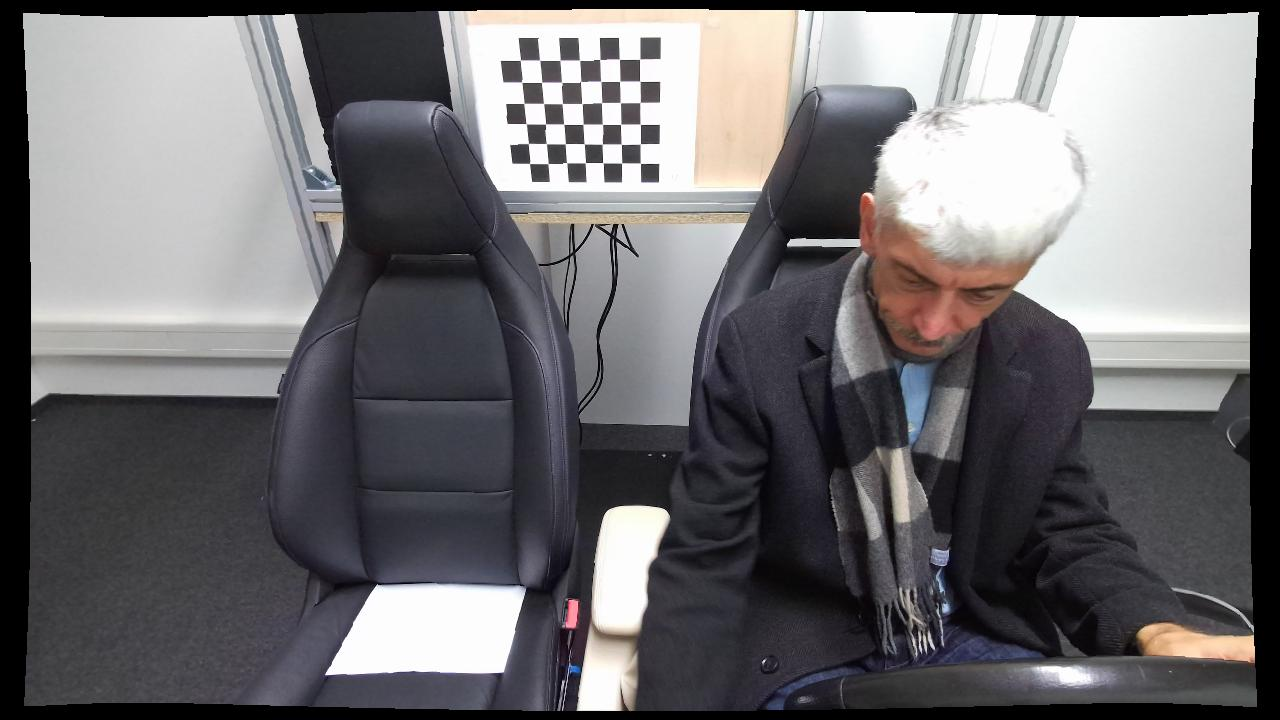Distracted: (631, 90, 1156, 706)
